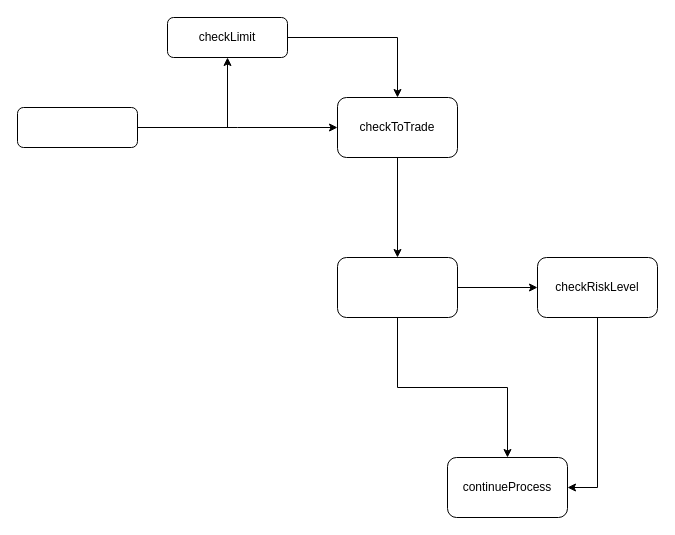
Image size: 675x535. Some labels were removed from this diagram. The box of each missing label's shape, as (x1, y1, x2, y2) in pixels:
processAount: (336, 256, 458, 318)
transactionStart(): (16, 106, 138, 148)
